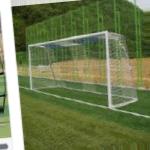goals: (27, 29, 139, 109)
